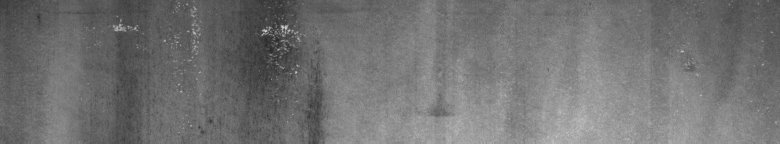hc: (102, 4, 324, 134)
